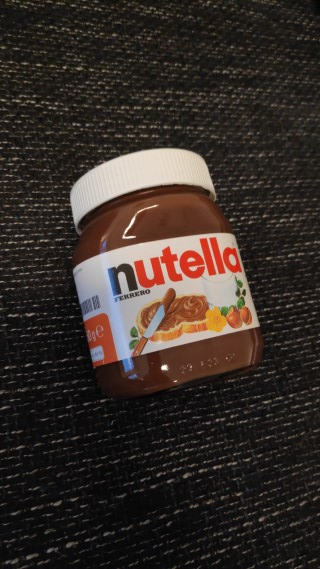nutella: (67, 145, 264, 400)
